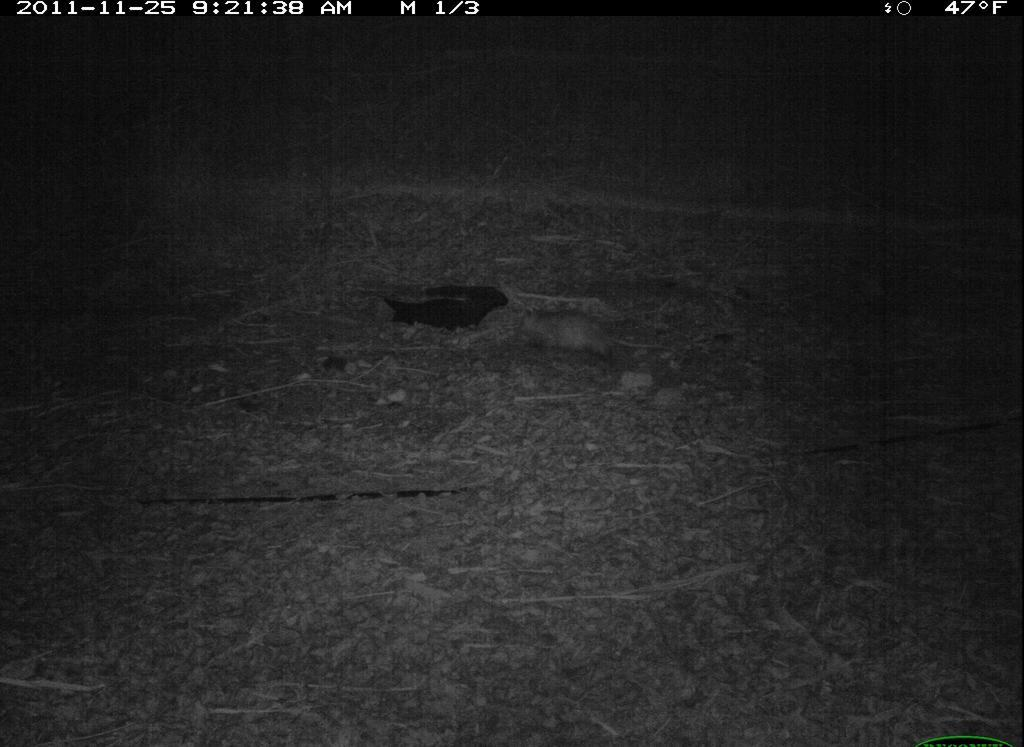opossum: (506, 295, 674, 372)
